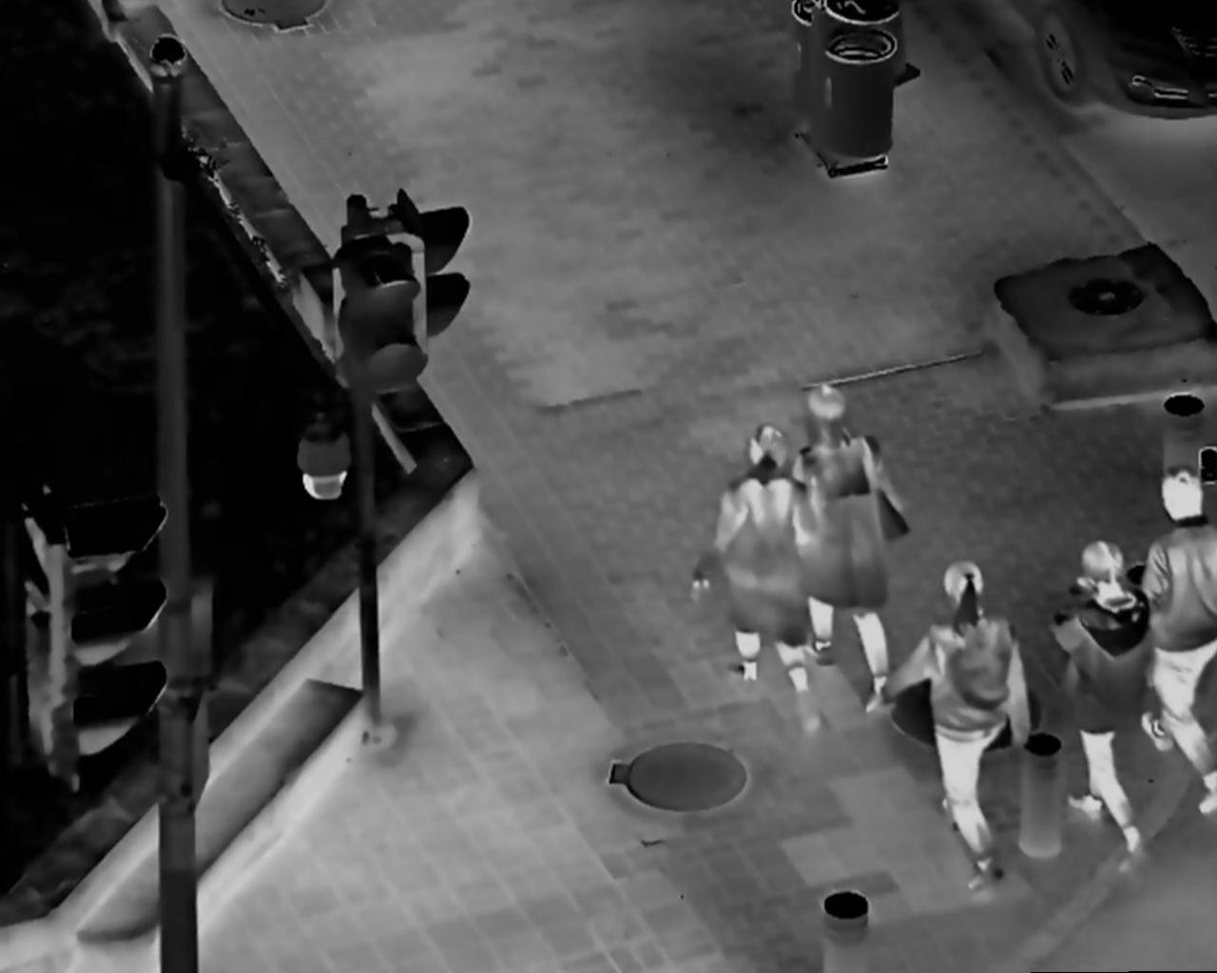person: (895, 552, 1029, 887), (1033, 538, 1157, 879), (791, 382, 898, 715), (692, 422, 816, 700), (1129, 457, 1217, 823)
